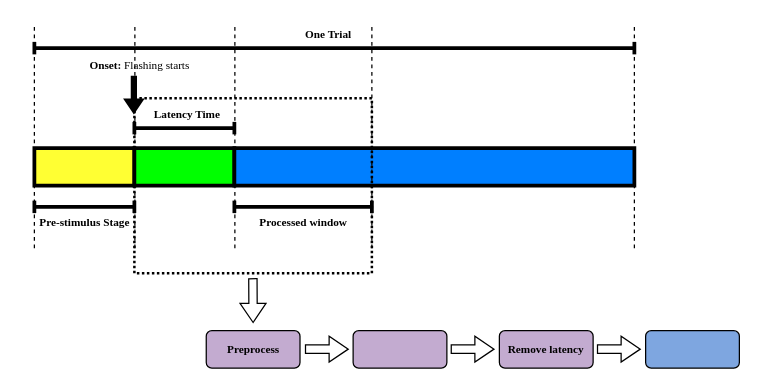
Some shapes in this 761 by 390 pixel diagram are drawn without their labels. The shapes that lost their labels are listed below. From the top down, each one's centre as x and y in pixels, then its label:
At (x=399, y=348): "Filterbank".
At (x=691, y=348): "Output single trial data".
